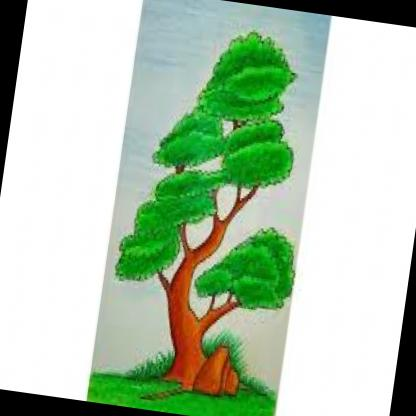trunk_reflex: (155, 294, 214, 360)
